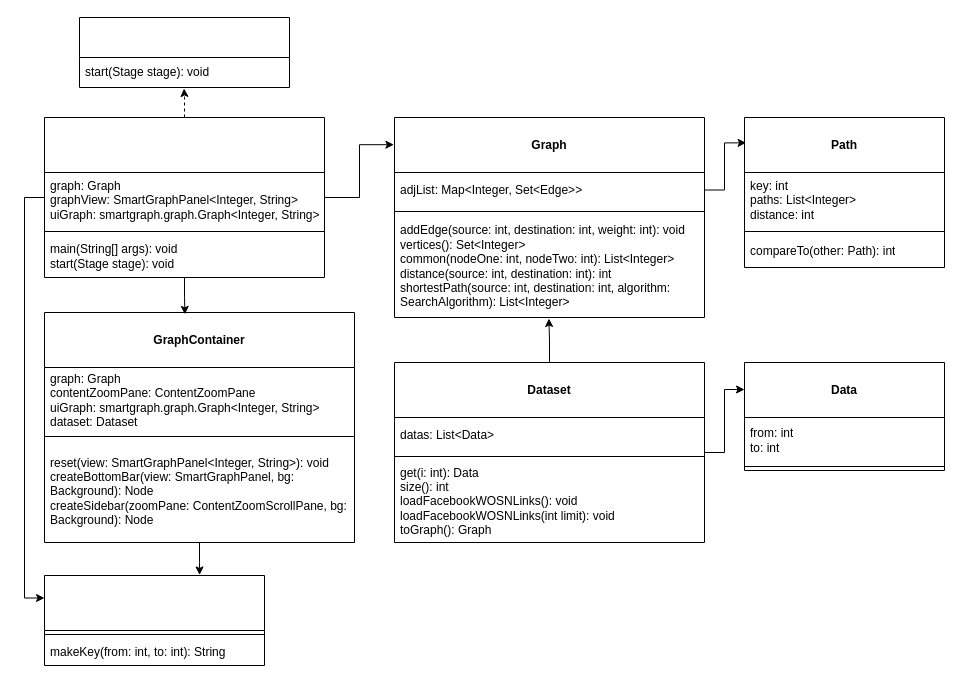
This 962x683 diagram has some shape labels left out. Each missing label, with the box of its shape:
<<abstract>> Application: (78, 16, 290, 88)
App: (44, 116, 324, 278)
GraphUtil: (44, 574, 264, 666)
